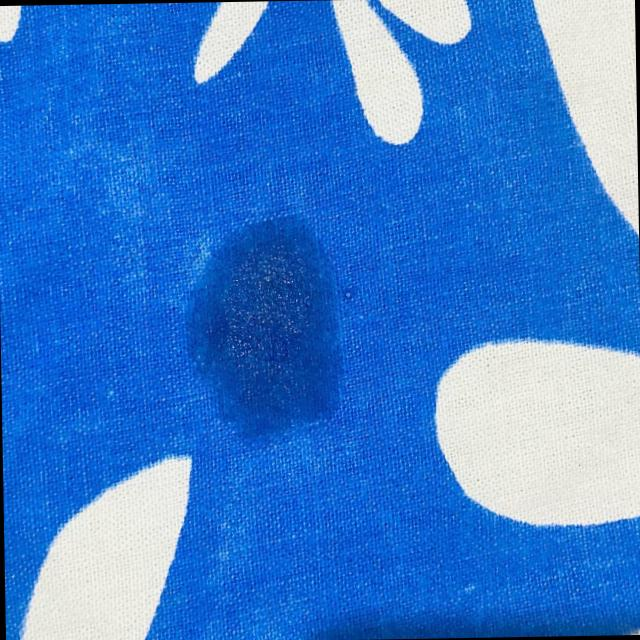stain: (177, 205, 347, 446)
